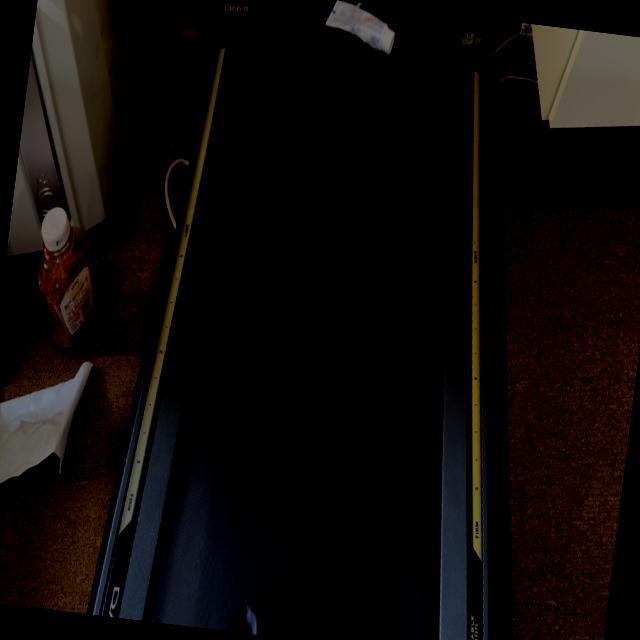Trash: (322, 0, 395, 64)
